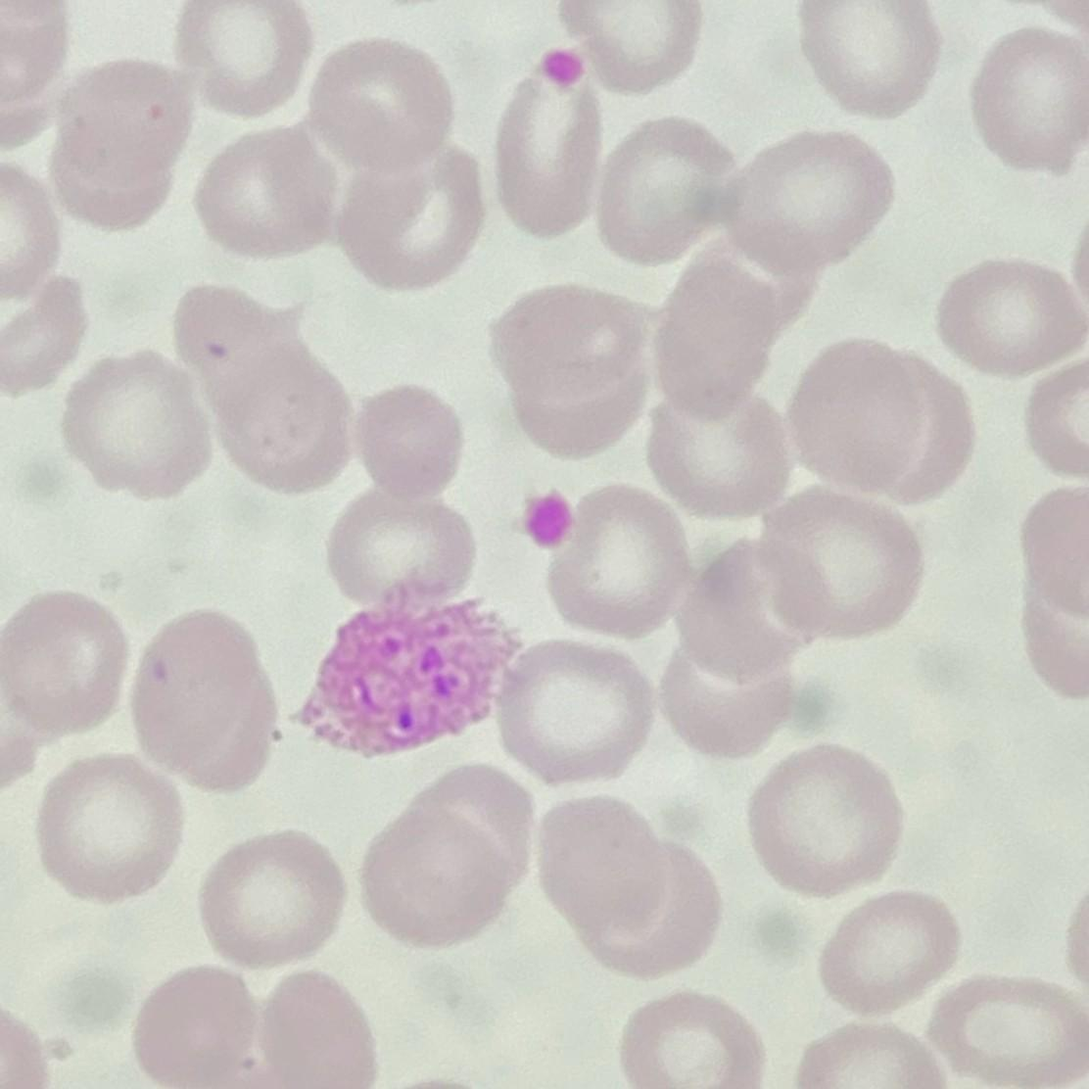Infected: (296, 578, 519, 755)
Uninfected: (663, 236, 822, 423), (729, 128, 899, 278), (760, 490, 924, 640), (670, 535, 830, 681), (752, 745, 902, 899), (499, 639, 654, 786), (65, 351, 220, 498), (594, 114, 740, 263), (789, 333, 927, 490), (39, 756, 182, 902), (550, 490, 692, 637), (339, 149, 485, 291), (125, 606, 255, 762), (308, 36, 455, 173), (362, 811, 505, 949), (213, 359, 360, 493), (194, 130, 339, 264), (200, 827, 341, 963), (0, 588, 134, 730), (650, 396, 798, 523), (926, 974, 1089, 1089), (539, 798, 665, 946), (932, 259, 1089, 377), (499, 77, 610, 239), (65, 55, 197, 189), (325, 488, 476, 603), (795, 0, 943, 117), (975, 26, 1089, 175), (821, 895, 961, 1015), (172, 0, 311, 120), (590, 850, 718, 979), (131, 968, 267, 1089), (402, 760, 537, 880), (505, 349, 642, 462), (490, 298, 650, 394), (664, 643, 795, 758), (621, 988, 769, 1089), (558, 0, 704, 92), (351, 380, 461, 502), (270, 968, 380, 1089), (797, 1027, 947, 1089)
